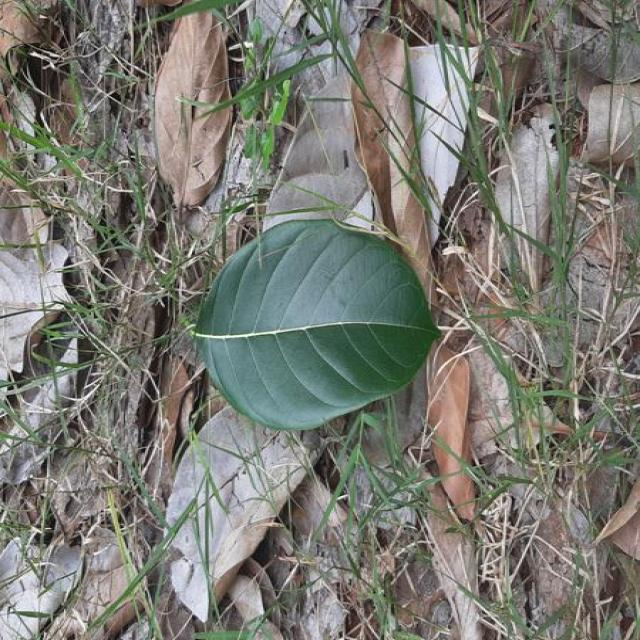Jackfruit: (195, 219, 438, 429)
